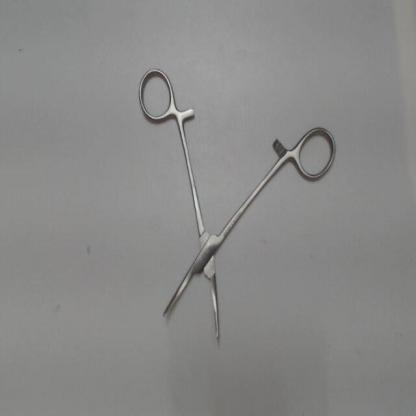Crile Artery Forceps: (133, 64, 341, 344)
